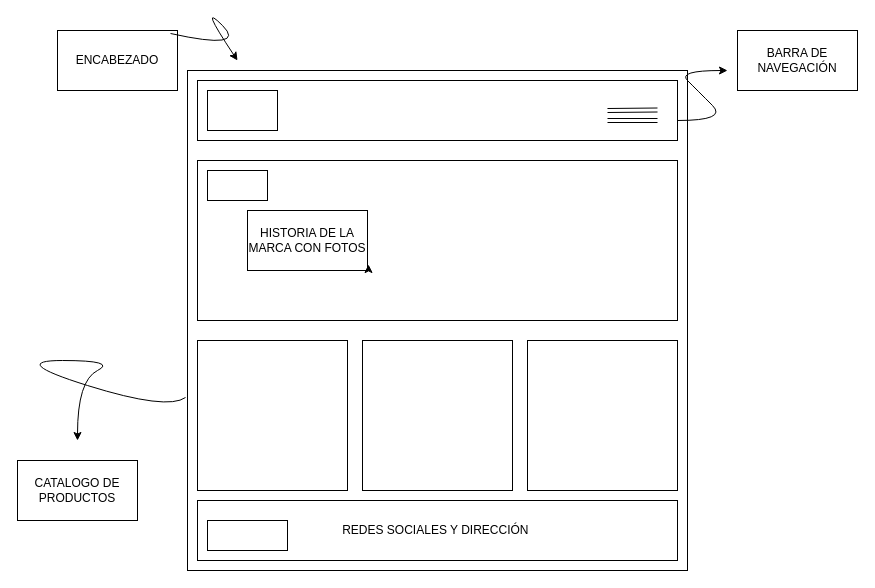
The diagram is 875 pixels wide and 588 high, and some of its shapes have lost their labels. Each missing label, with the box of its shape:
LOGOTIPO: (206, 90, 278, 130)
PIE DE PÁGINA: (206, 520, 288, 550)
PRINCIPAL: (206, 170, 268, 200)
